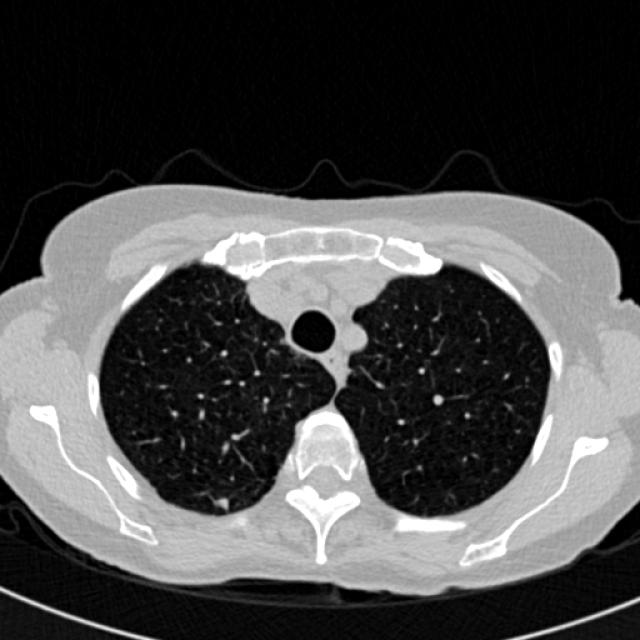nodule: (207, 489, 235, 516)
